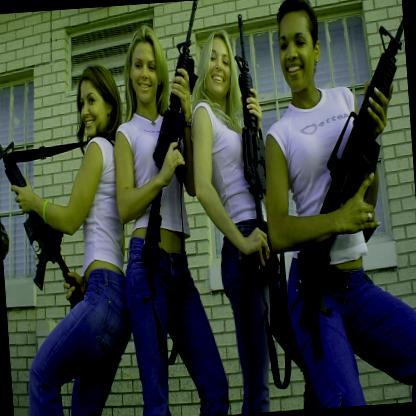rifle: (280, 0, 416, 307), (122, 0, 224, 297), (0, 105, 88, 314), (230, 9, 283, 281)
